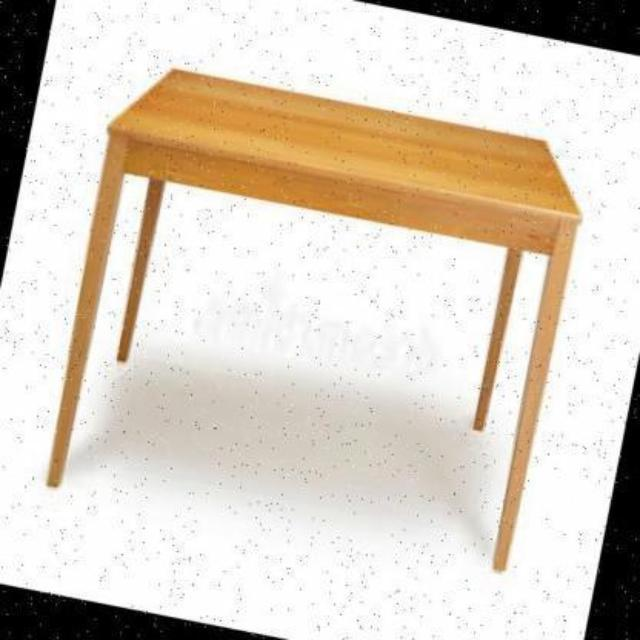table: (55, 73, 568, 527)
